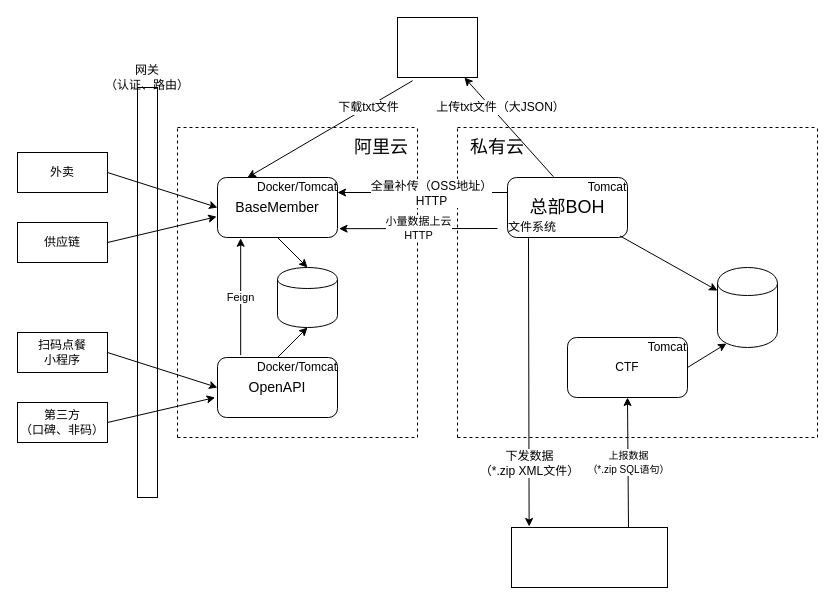
This 836x605 diagram has some shape labels left out. The shapes that lost their labels are listed below. From the top down, each one's centre as x and y in pixels, then its label:
At [437,47]: "阿里OSS".
At [307,297]: "DB MySQL".
At [747,307]: "DB Oracle".
At [589,557]: "门店POS、HHT".
